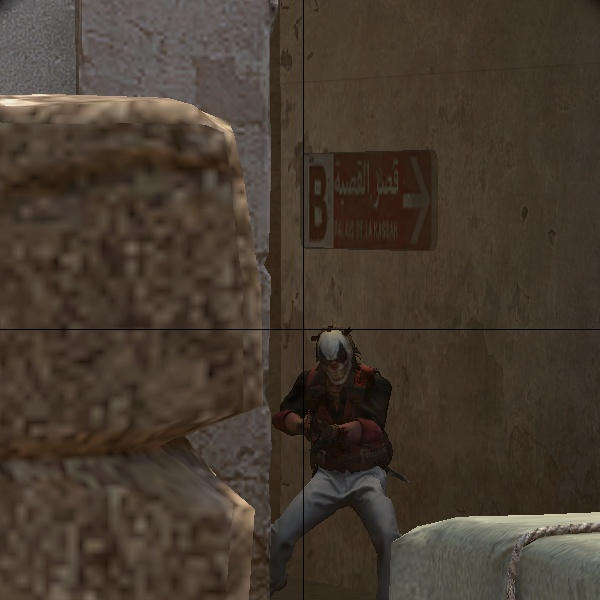t_body: (261, 320, 416, 600)
t_head: (306, 321, 363, 383)
